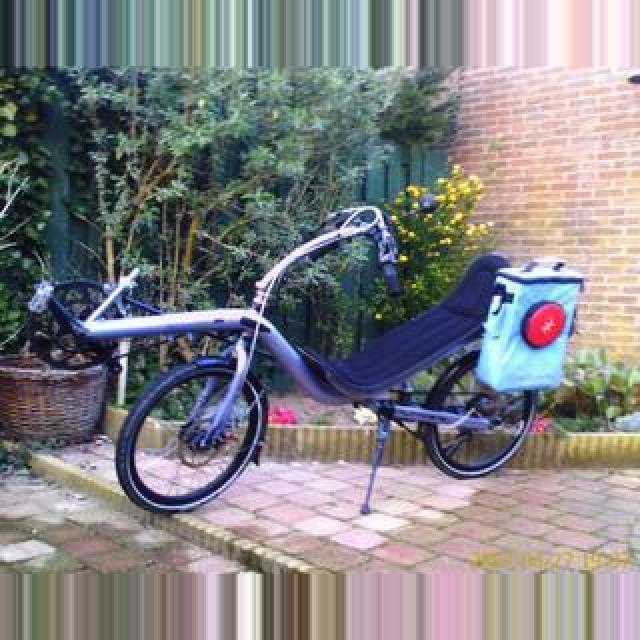Person: (116, 201, 584, 531)
